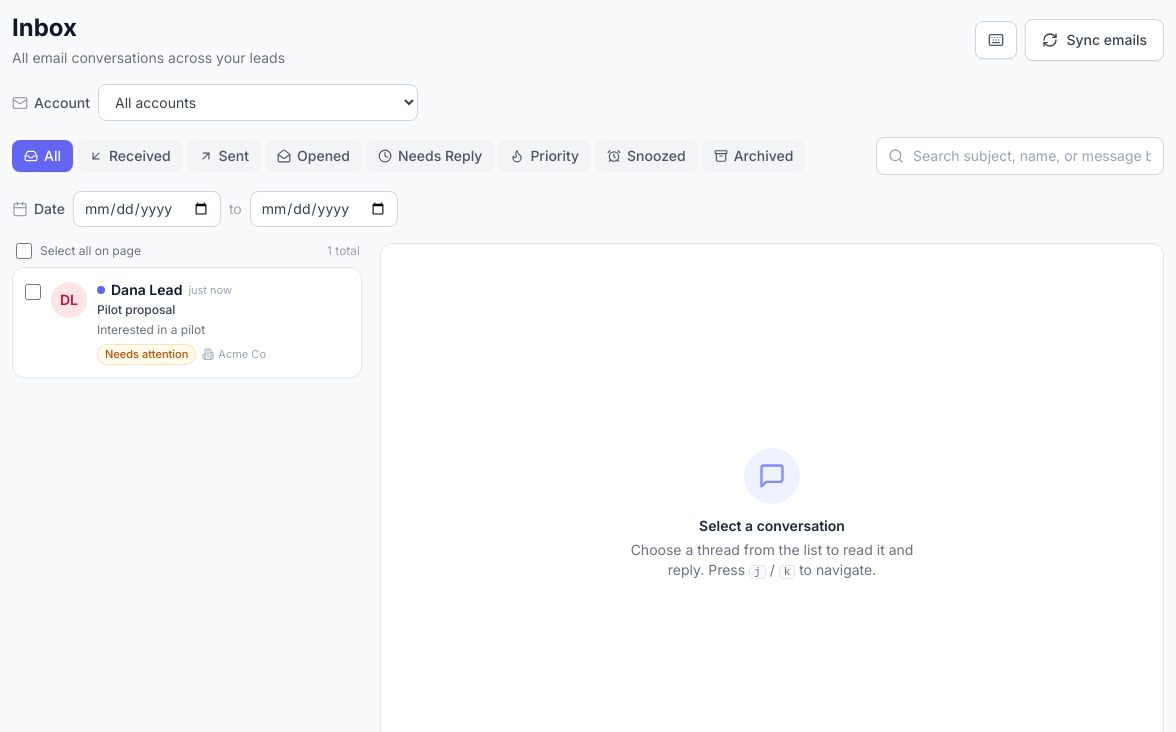
it: Inbox two-pane layout › marks the thread read and opens it in the detail pane on select
Click the button "Pilot proposal": (189, 322) [97,280,281,364]
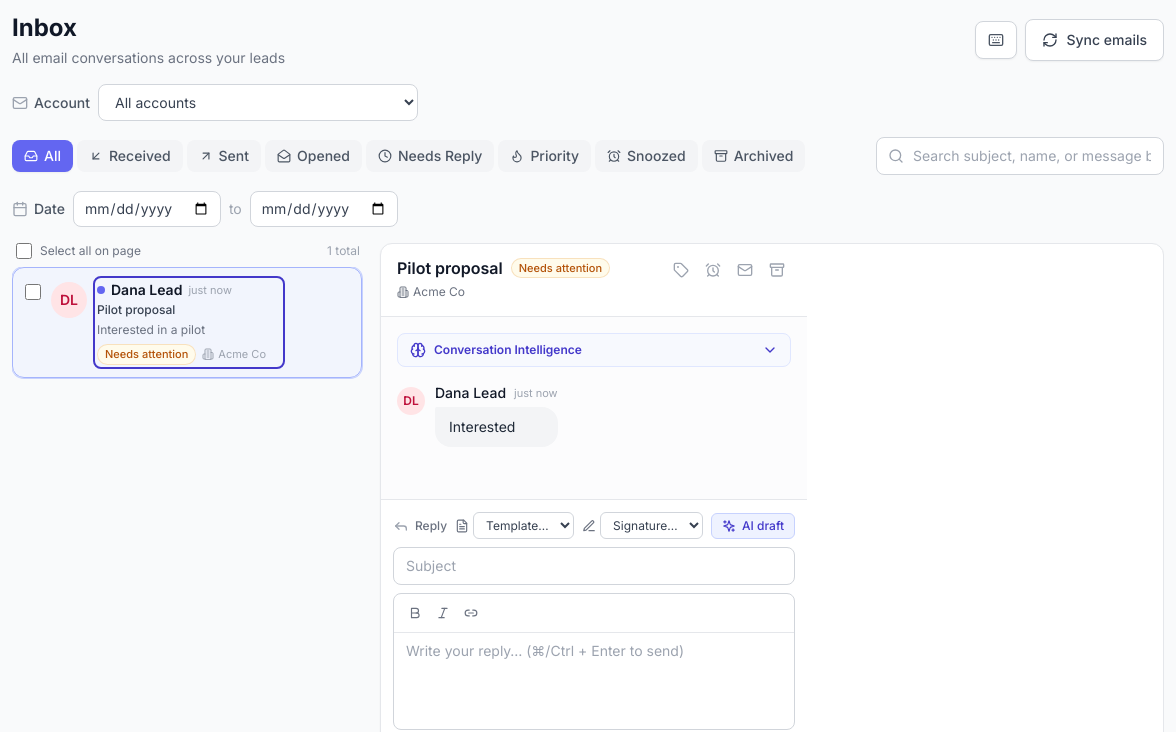
Check: the field named "Reply body" is shown, box [394,633,794,729]
